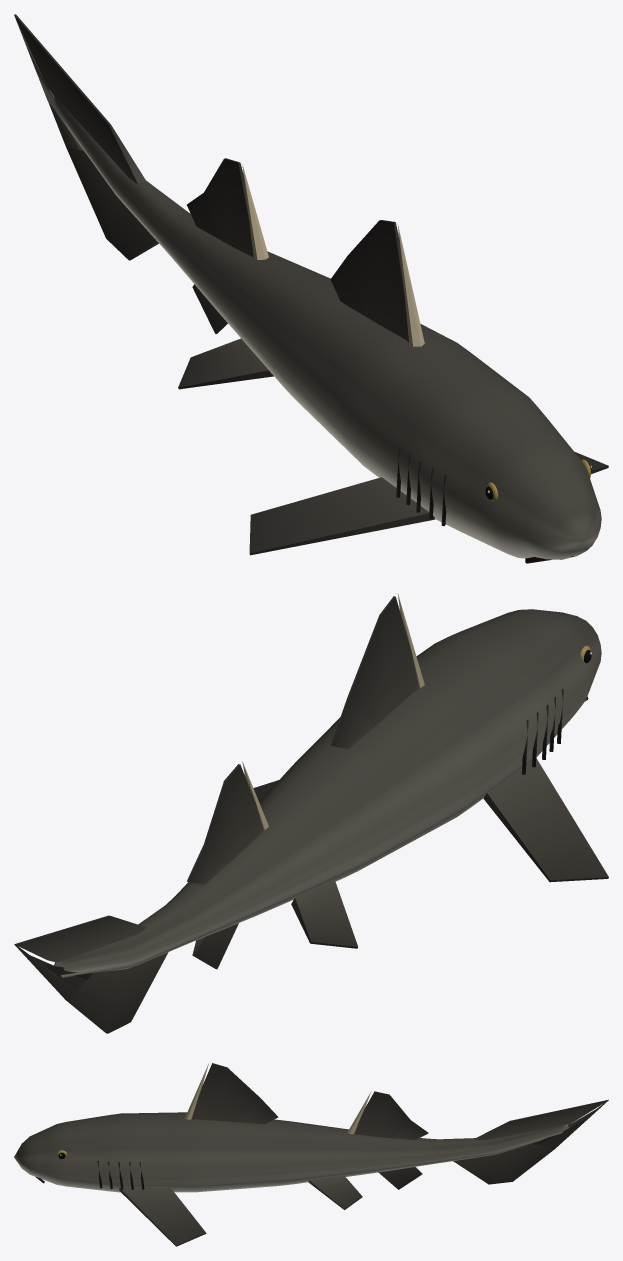
The model's file is Hybodus.fbx.
The picture shows the model from 3 angles, top to bottom: view 1: azimuth 30°, elevation 25°; view 2: azimuth 150°, elevation 25°; view 3: azimuth 270°, elevation 25°; orthographic projection. The views are drawn at different scales.
Visible parts, largest first — view 1: Hybodus; view 2: Hybodus; view 3: Hybodus.
Part boxes in pixels (left/top/right/bottom): Hybodus: left=14, top=14, right=608, bottom=563; Hybodus: left=14, top=593, right=608, bottom=1033; Hybodus: left=14, top=1063, right=608, bottom=1246.
Bounding box in the file's own units: 0.7213 × 0.5105 × 1.98.
